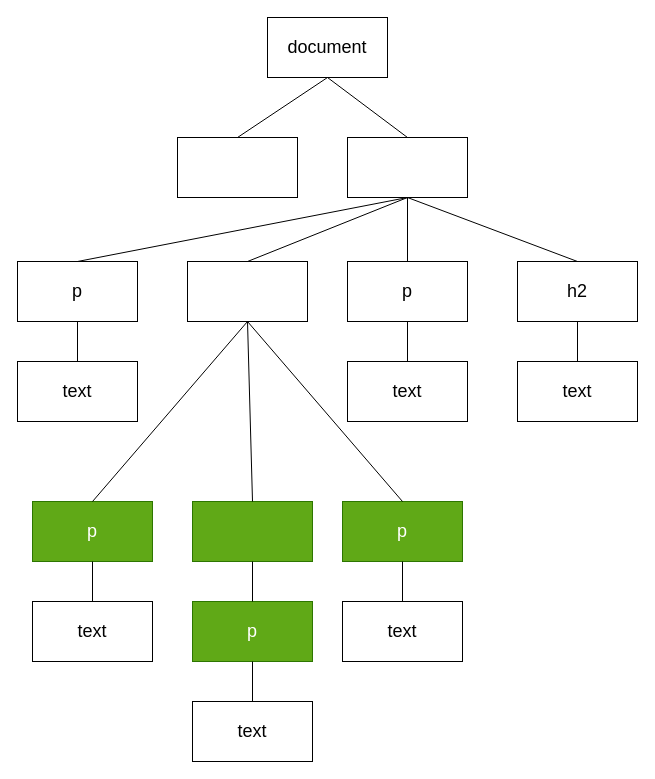
Some shapes in this 655 by 779 pixel diagram are drawn without their labels. The shapes that lost their labels are listed below. From the top down, each one's centre as x and y in pixels, then its label:
At pixel 237 167: "head".
At pixel 407 167: "body".
At pixel 247 291: "div".
At pixel 252 531: "span".
